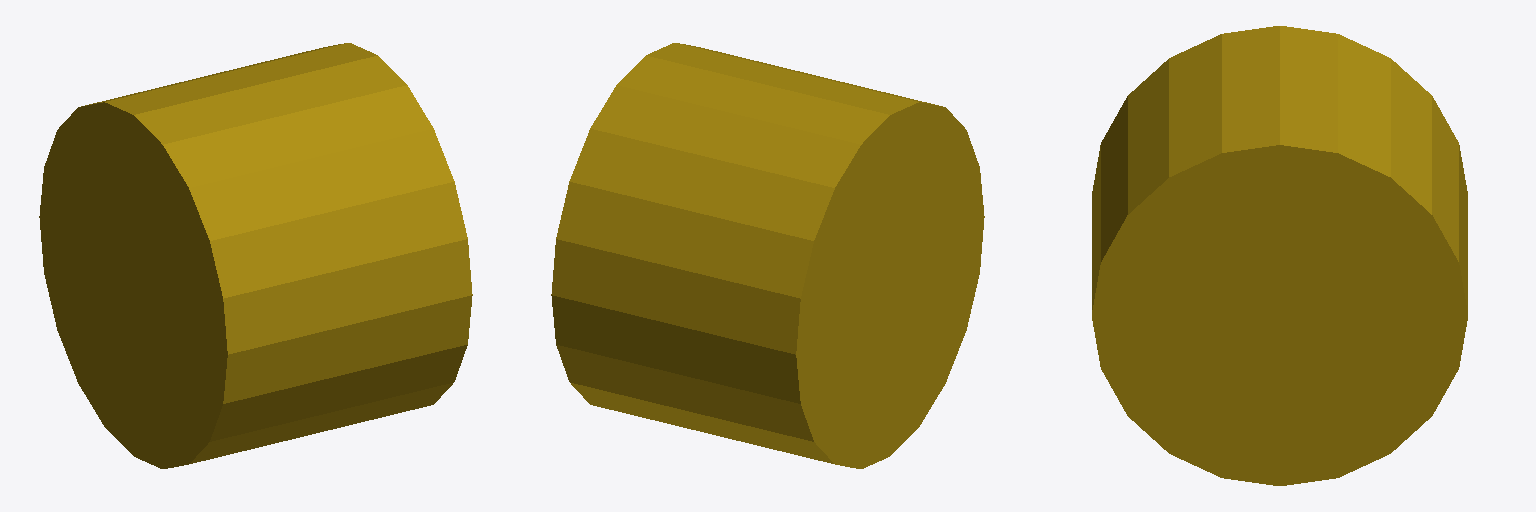
The model's file is foin.obj.
3 views of the same model, side by side, from view 1: azimuth 30°, elevation 25°; view 2: azimuth 150°, elevation 25°; view 3: azimuth 270°, elevation 25° (orthographic).
Visible parts, largest first — view 1: Cylinder001; view 2: Cylinder001; view 3: Cylinder001.
Boxes of the visible parts, x1=… form: Cylinder001: x1=39, y1=43, x2=472, y2=468; Cylinder001: x1=551, y1=43, x2=984, y2=468; Cylinder001: x1=1092, y1=26, x2=1467, y2=485.
Size of the model in its own units: 1.5 by 2 by 2.